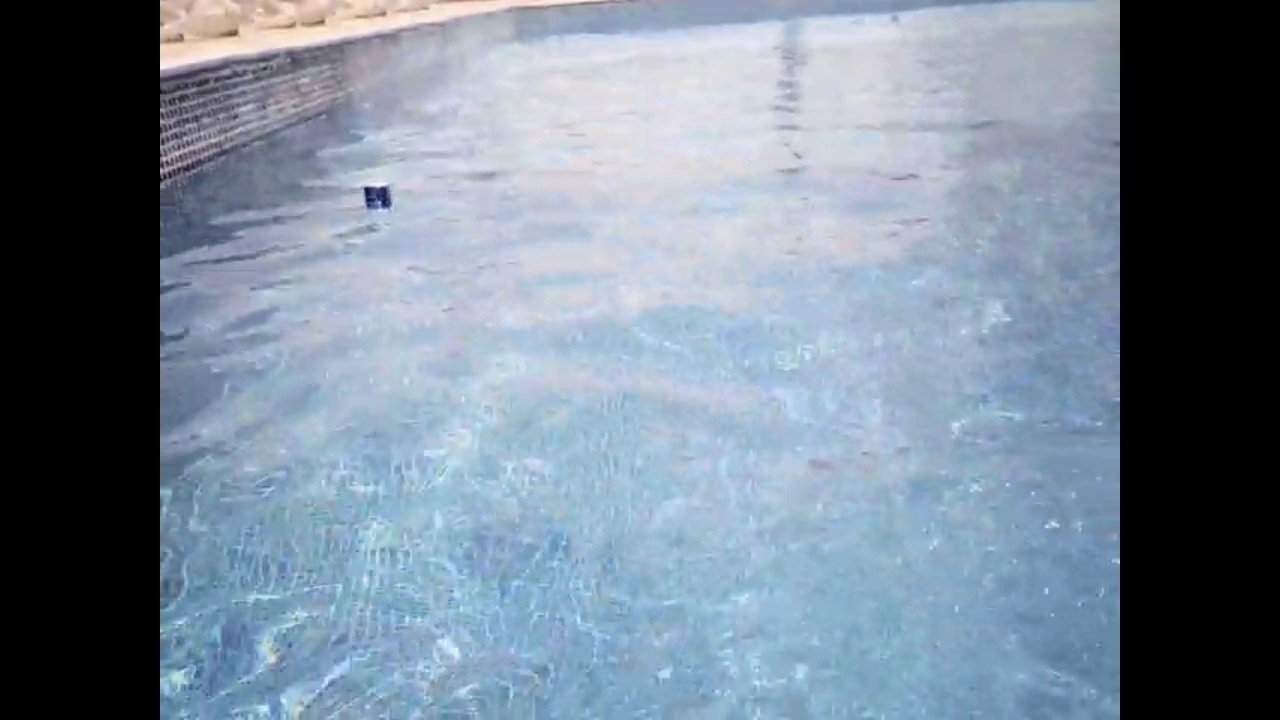debris: (353, 178, 398, 219)
